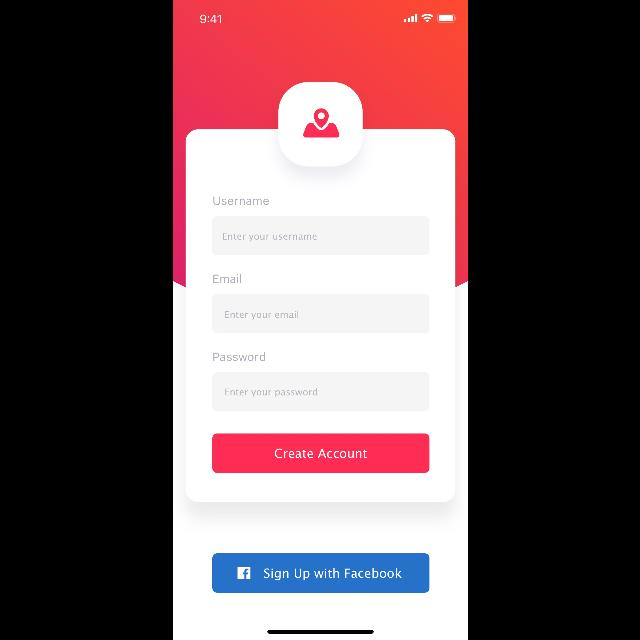image: (278, 82, 362, 166)
input: (212, 372, 428, 412), (212, 294, 428, 334), (212, 217, 428, 256)
text: (225, 388, 317, 398), (222, 233, 316, 241), (225, 310, 298, 320), (213, 352, 265, 362), (212, 197, 268, 206), (213, 274, 241, 284)
textbutton: (212, 433, 428, 472), (212, 554, 428, 592)
uppertaskbar: (200, 14, 456, 24)
